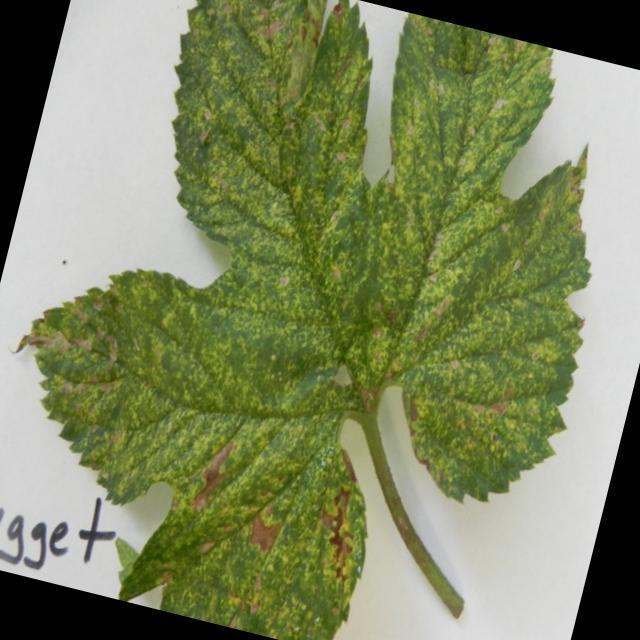Mosaic Virus: (27, 0, 640, 557)
